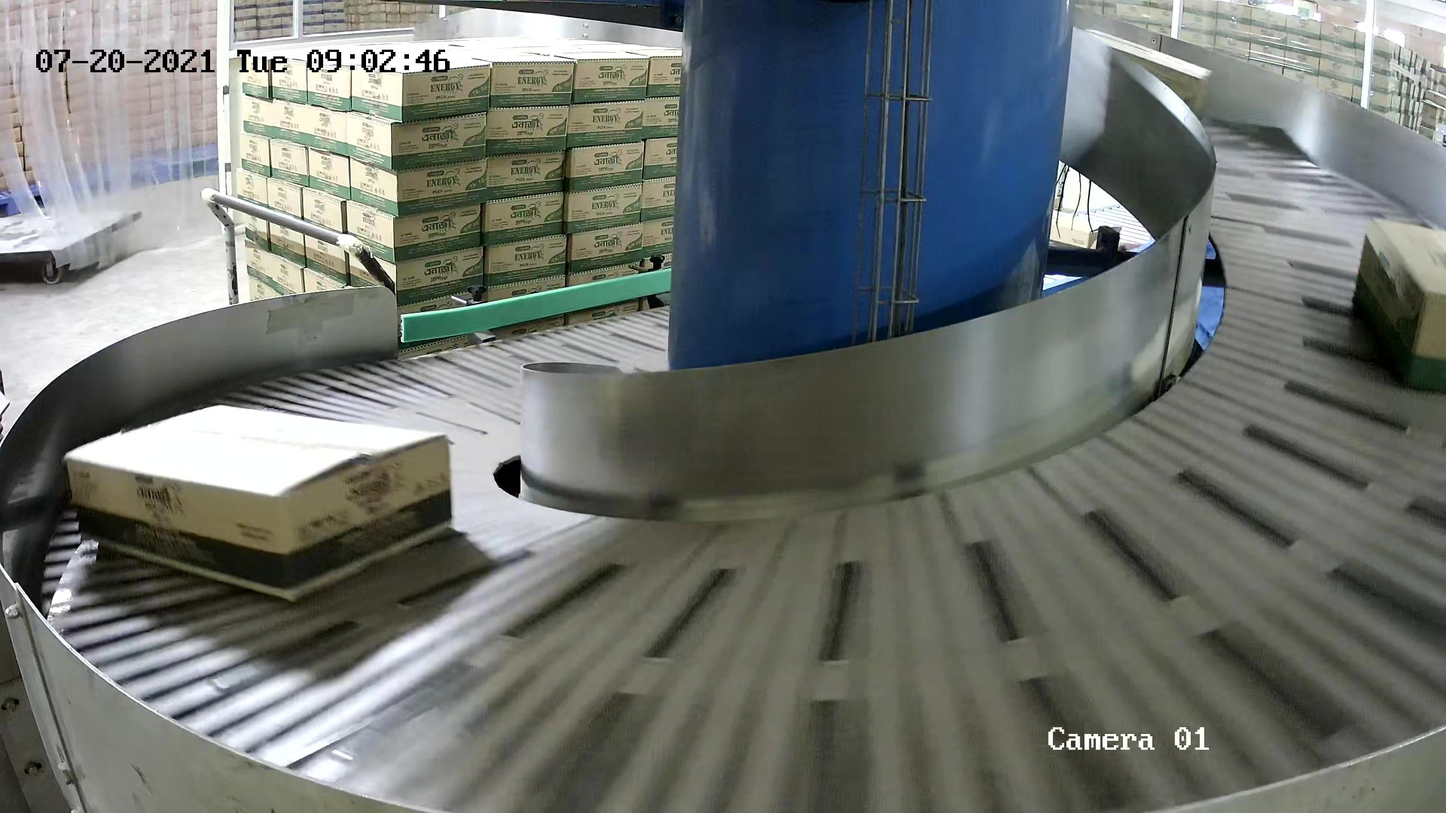Box: (62, 403, 455, 603), (1351, 215, 1446, 392)
